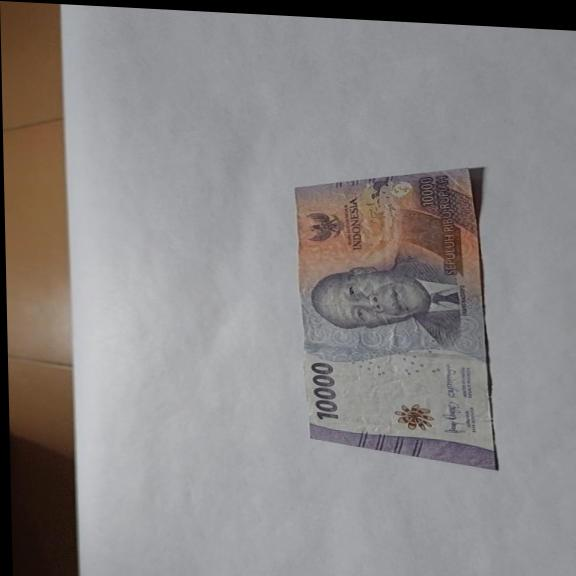Kertas: (292, 156, 499, 470), (308, 360, 339, 422)
